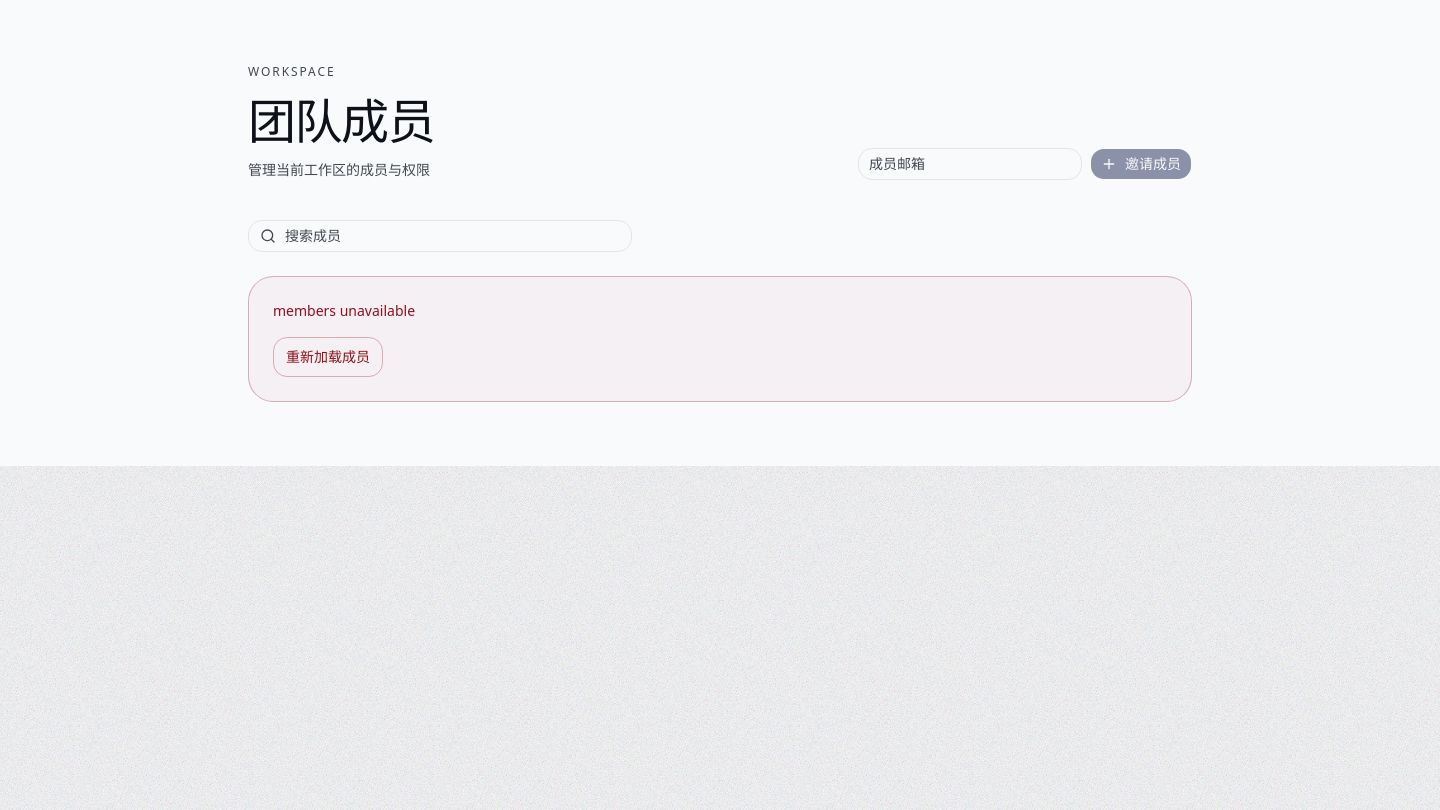
Scenario: TeamPage › offers retry when member loading fails
Expected: the message shows "members unavailable", [273,301,415,320]
Click the button "重新加载成员".
click(328, 357)  # box [273,337,383,377]
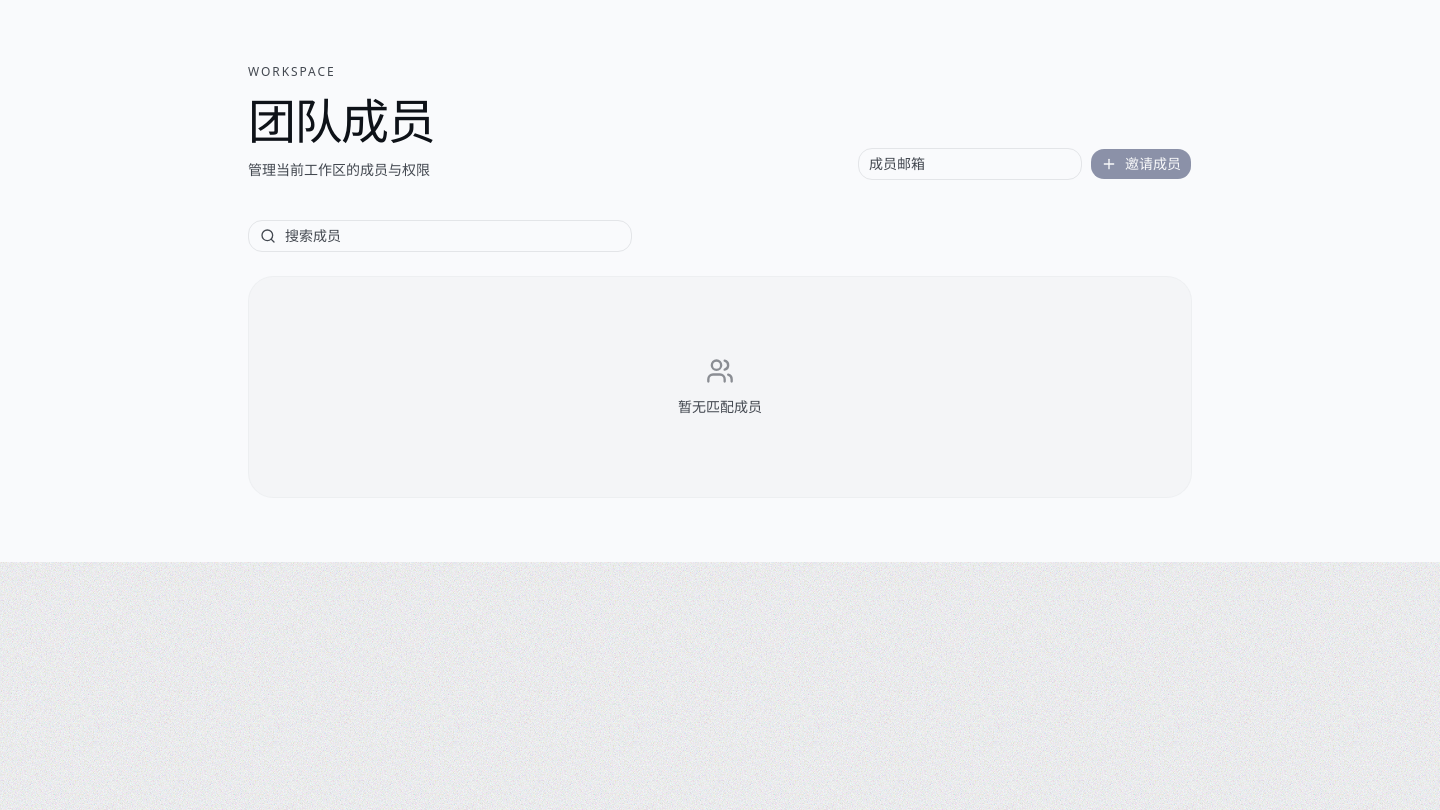
Expected: the text "暂无匹配成员" is shown, [678,397,762,416]
